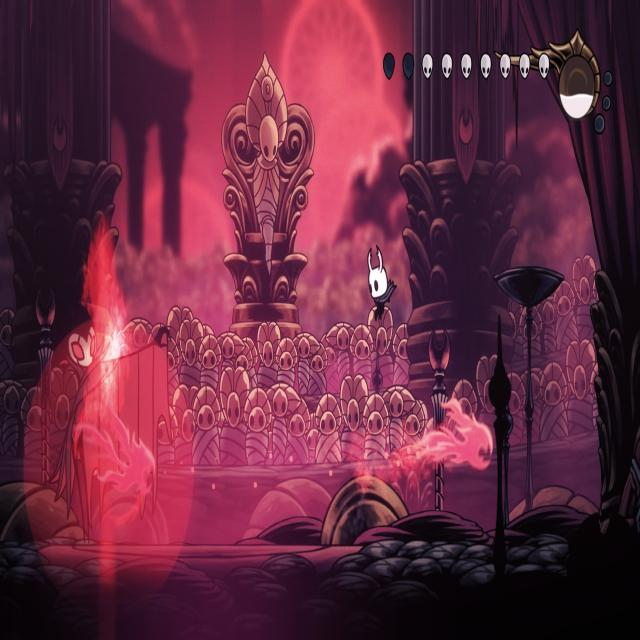Fire Bat: (80, 408, 157, 493), (415, 398, 490, 473)
Open Cloak: (44, 300, 162, 542)
Player: (364, 241, 398, 327)
